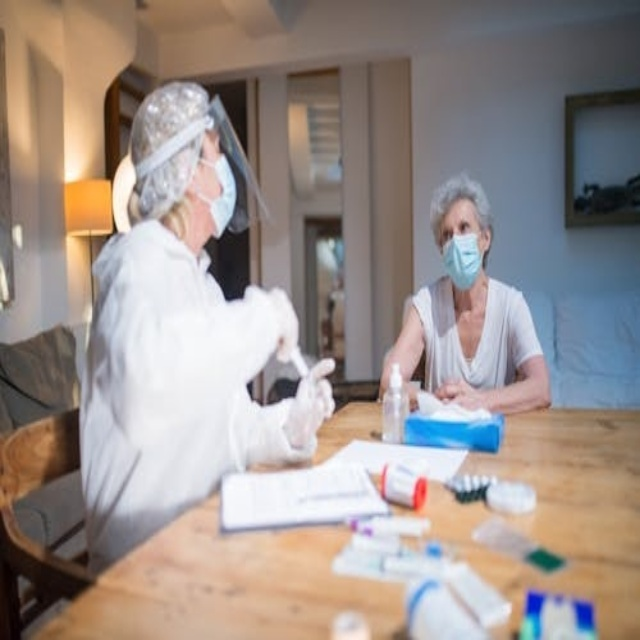Guantes: (281, 360, 337, 451), (252, 285, 303, 358)
Mascara: (200, 149, 237, 238), (441, 231, 484, 290)
Sin_gafas: (440, 211, 476, 249), (202, 134, 228, 157)
Sin_guantes: (432, 376, 476, 407)
